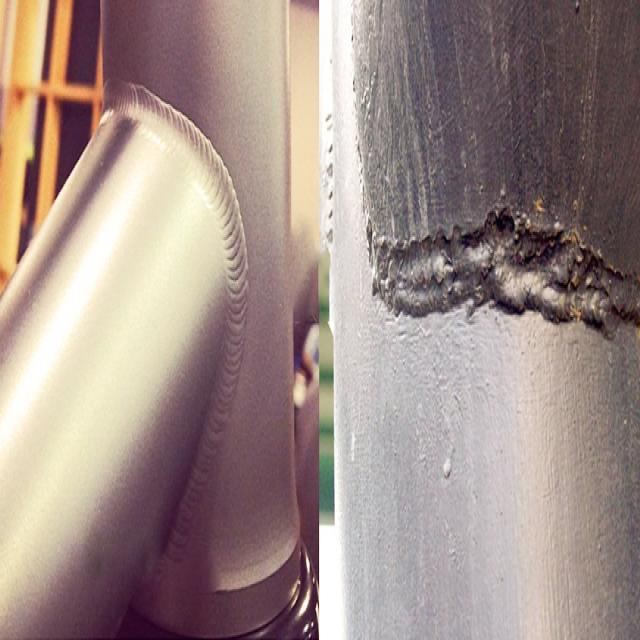Bad Weld: (356, 171, 637, 418)
Good Weld: (106, 76, 272, 526)
